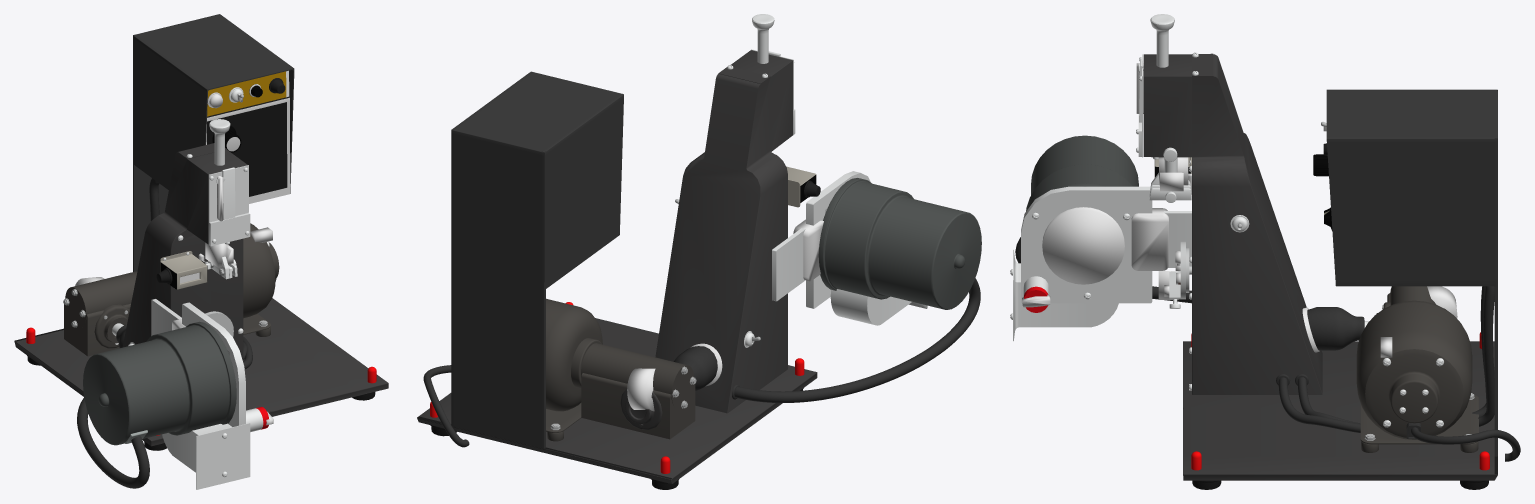
The model's file is Maquinaconmotor.fbx.
3 views of the same model, side by side, from view 1: azimuth 30°, elevation 25°; view 2: azimuth 150°, elevation 25°; view 3: azimuth 270°, elevation 25° (orthographic). The views are drawn at different scales.
Parts seen in each view (by area): view 1: Plane, Circle.003, Plane.001, Cylinder.003, Circle.004, Plane.008, cable.002, Plane.003, Cube, Cube.002, Cylinder.041, Plane.002 (+4 smaller); view 2: Plane, Plane.001, Circle.003, Cylinder.003, cable.002, Cube.002, Circle.004, Plane.002, Plane.003, Cylinder.041, Cutter.001, Cutter.012 (+5 smaller); view 3: Plane, Plane.001, Cylinder.003, Plane.003, Cutter.002, Circle.003, Circle.004, cable.001, Cutter.001, Cylinder.041, Circle, cable.003 (+6 smaller).
Part boxes in pixels (box(x1,y1,x2,y2)): Plane: box(14, 14, 388, 446); Circle.003: box(83, 321, 236, 445); Plane.001: box(122, 143, 247, 361); Cylinder.003: box(65, 223, 279, 328); Circle.004: box(162, 423, 250, 489); Plane.008: box(208, 165, 250, 246); cable.002: box(77, 397, 149, 488); Plane.003: box(182, 302, 245, 426); Cube: box(160, 251, 207, 289); Cube.002: box(64, 303, 130, 356); Cylinder.041: box(94, 304, 129, 348); Plane.002: box(151, 299, 181, 335); Plane: box(417, 71, 817, 483); Plane.001: box(655, 50, 792, 413); Circle.003: box(818, 178, 981, 309); Cylinder.003: box(546, 298, 693, 411); cable.002: box(734, 278, 980, 402); Cube.002: box(581, 373, 695, 439); Circle.004: box(830, 289, 927, 325); Plane.002: box(772, 228, 805, 301); Plane.003: box(806, 171, 870, 308); Cylinder.041: box(673, 346, 717, 390); Cutter.001: box(793, 219, 823, 281); Cutter.012: box(627, 368, 655, 411); Plane: box(1183, 89, 1497, 480); Plane.001: box(1143, 53, 1322, 394); Cylinder.003: box(1356, 286, 1472, 439); Plane.003: box(1021, 186, 1152, 303); Cutter.002: box(1042, 207, 1124, 284); Circle.003: box(1026, 135, 1138, 211); Circle.004: box(1013, 249, 1118, 341); cable.001: box(1278, 286, 1494, 432); Cutter.001: box(1131, 208, 1168, 270); Cylinder.041: box(1307, 302, 1390, 350); Circle: box(1360, 395, 1478, 444); cable.003: box(1411, 427, 1520, 461).
Size of the model in its own units: 0.4236 by 0.3938 by 0.4859.
